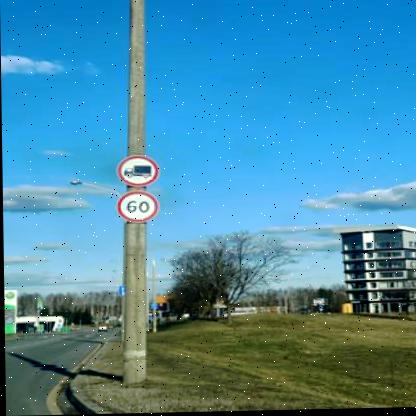Speed Limit -60-: (117, 189, 159, 225)
